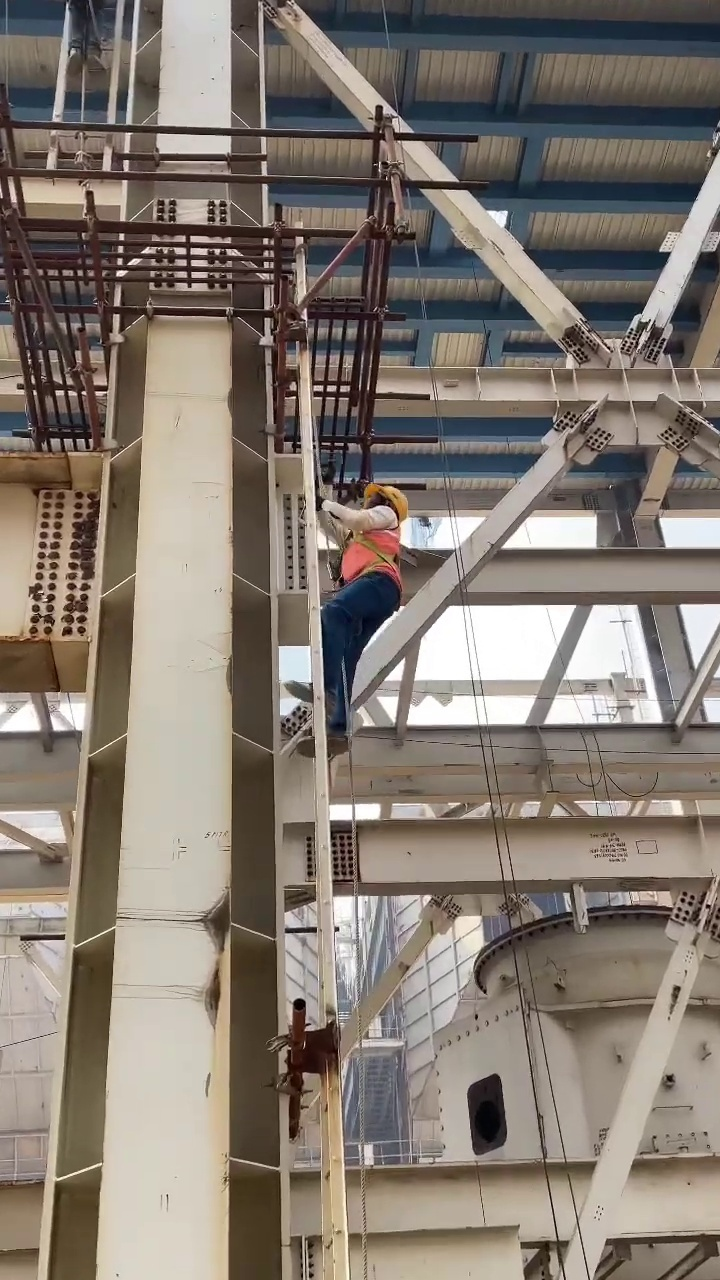Helmet: (366, 482, 407, 520)
Person: (285, 481, 409, 755)
Safety_Harness: (341, 525, 405, 583)
Safety_shoes: (284, 679, 336, 714), (295, 733, 351, 760), (64, 45, 81, 75), (85, 54, 105, 78)
